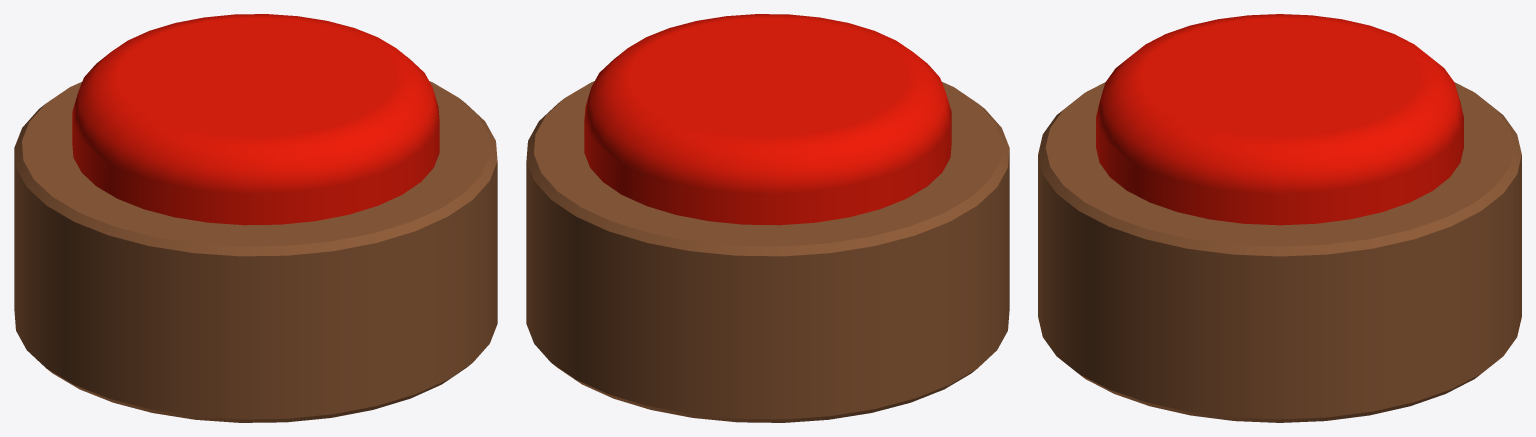
The model's file is gammeButton.glb.
3 renders of one model, left to right at view 1: azimuth 30°, elevation 25°; view 2: azimuth 150°, elevation 25°; view 3: azimuth 270°, elevation 25°, orthographic.
Visible parts, largest first — view 1: Base, Button; view 2: Base, Button; view 3: Base, Button.
Part boxes in pixels (left/top/right/bottom): Base: left=14, top=81, right=497, bottom=422; Button: left=72, top=14, right=439, bottom=225; Base: left=526, top=81, right=1009, bottom=422; Button: left=584, top=14, right=951, bottom=225; Base: left=1038, top=82, right=1521, bottom=422; Button: left=1096, top=14, right=1463, bottom=225.
Bounding box in the file's own units: 2.6 × 1.47 × 2.6.
